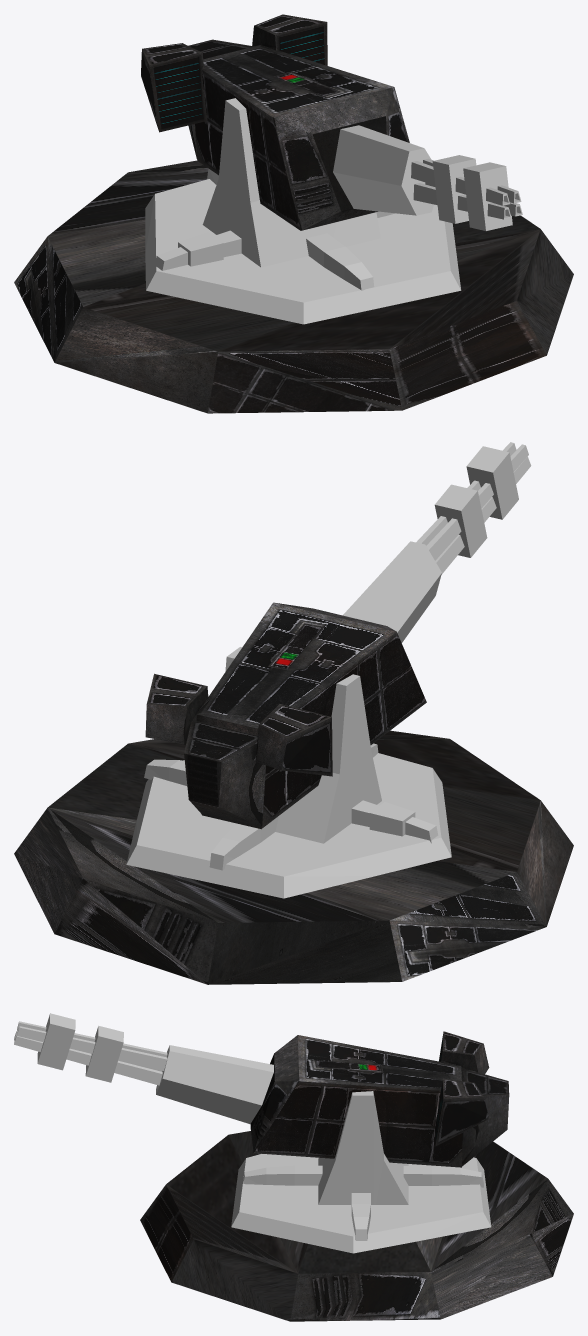
Rendered from canon_plasma_lod2.dae.
3 renders of one model, top to bottom at view 1: azimuth 30°, elevation 25°; view 2: azimuth 150°, elevation 25°; view 3: azimuth 270°, elevation 25°, orthographic. The views are drawn at different scales.
Visible parts, largest first — view 1: Mesh_Object_2, Mesh_Object_3, Mesh_Object, Mesh_Object_4; view 2: Mesh_Object_2, Mesh_Object, Mesh_Object_3, Mesh_Object_4; view 3: Mesh_Object_2, Mesh_Object, Mesh_Object_3, Mesh_Object_4.
Part boxes in pixels (bbox=[...]): Mesh_Object_2: bbox=[14, 160, 573, 413]; Mesh_Object_3: bbox=[145, 98, 461, 324]; Mesh_Object: bbox=[141, 14, 409, 230]; Mesh_Object_4: bbox=[333, 125, 522, 230]; Mesh_Object_2: bbox=[14, 730, 573, 984]; Mesh_Object: bbox=[145, 602, 426, 829]; Mesh_Object_3: bbox=[126, 647, 451, 898]; Mesh_Object_4: bbox=[343, 442, 531, 642]; Mesh_Object_2: bbox=[140, 1131, 573, 1321]; Mesh_Object: bbox=[250, 1031, 509, 1167]; Mesh_Object_3: bbox=[231, 1091, 491, 1253]; Mesh_Object_4: bbox=[14, 1013, 273, 1124].
Size of the model in its own units: 2.29 by 1.26 by 2.99.
